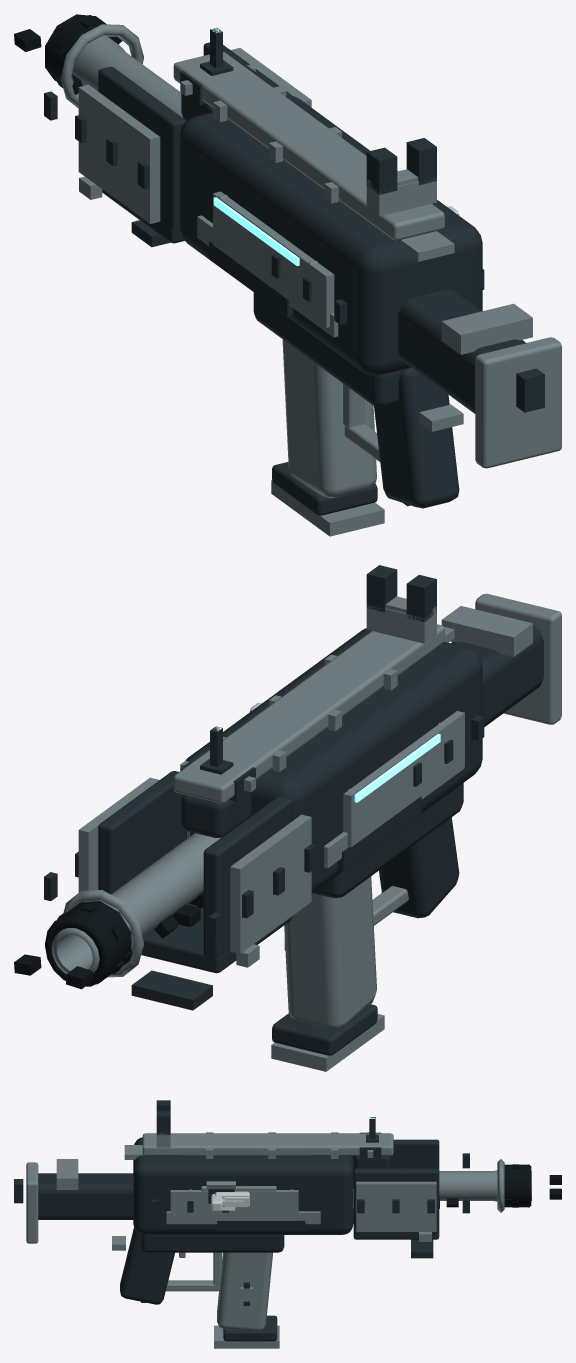
Rendered from weapon-0.glb.
3 views of the same model, one above another, from view 1: azimuth 30°, elevation 25°; view 2: azimuth 150°, elevation 25°; view 3: azimuth 270°, elevation 25° (orthographic). The views are drawn at different scales.
Parts seen in each view (by area): view 1: body-dark, body-light, feed-light, barrel-assembly-light, barrel-assembly-cavity, feed-dark, body-glow; view 2: body-dark, body-light, feed-light, barrel-assembly-light, barrel-assembly-cavity, feed-dark, body-glow; view 3: body-dark, body-light, feed-light, barrel-assembly-light, barrel-assembly-cavity, feed-dark, bolt-trim.
Boxes of the visible parts, x1=… form: body-dark: x1=44, y1=28, x2=544, y2=508; body-light: x1=78, y1=48, x2=561, y2=468; feed-light: x1=271, y1=339, x2=384, y2=536; barrel-assembly-light: x1=60, y1=24, x2=183, y2=118; barrel-assembly-cavity: x1=14, y1=14, x2=122, y2=94; feed-dark: x1=272, y1=462, x2=377, y2=515; body-glow: x1=211, y1=28, x2=299, y2=265; body-dark: x1=44, y1=565, x2=543, y2=1010; body-light: x1=78, y1=593, x2=561, y2=967; feed-light: x1=271, y1=876, x2=384, y2=1071; barrel-assembly-light: x1=51, y1=833, x2=221, y2=977; barrel-assembly-cavity: x1=14, y1=891, x2=203, y2=989; feed-dark: x1=272, y1=1004, x2=377, y2=1055; body-glow: x1=215, y1=727, x2=440, y2=802; body-dark: x1=14, y1=1100, x2=469, y2=1304; body-light: x1=26, y1=1131, x2=436, y2=1291; feed-light: x1=214, y1=1252, x2=279, y2=1348; barrel-assembly-light: x1=439, y1=1159, x2=531, y2=1212; barrel-assembly-cavity: x1=439, y1=1164, x2=561, y2=1208; feed-dark: x1=223, y1=1282, x2=277, y2=1341; bolt-trim: x1=211, y1=1191, x2=249, y2=1211.
Bounding box in the file's own units: 0.2595 × 0.547 × 1.17.
